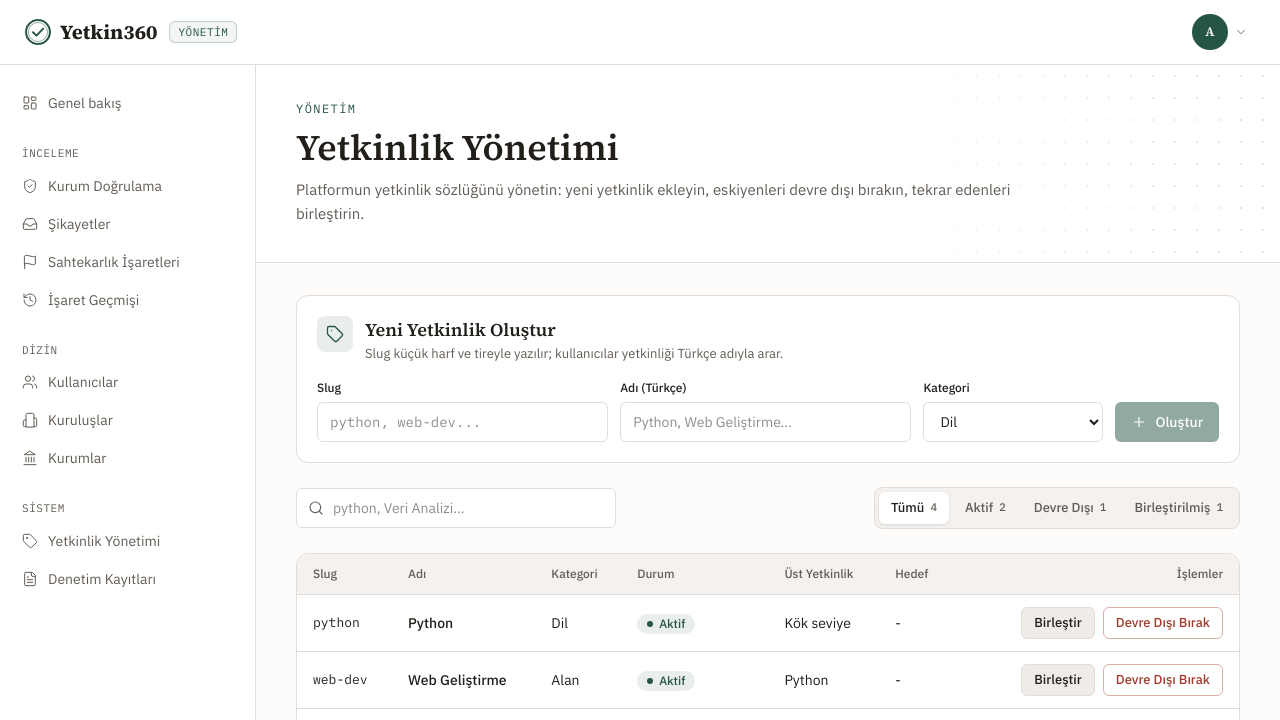
Test: SkillerPage (/admin/skiller) › AC-6: slug çakışması — 409 CONFLICT döner, form alanı altında satır-içi hata
Expected: the text "python" is shown, [297, 594, 392, 651]
Type "python" into the field labelled "Slug" at (463, 422), box [317, 402, 608, 442]
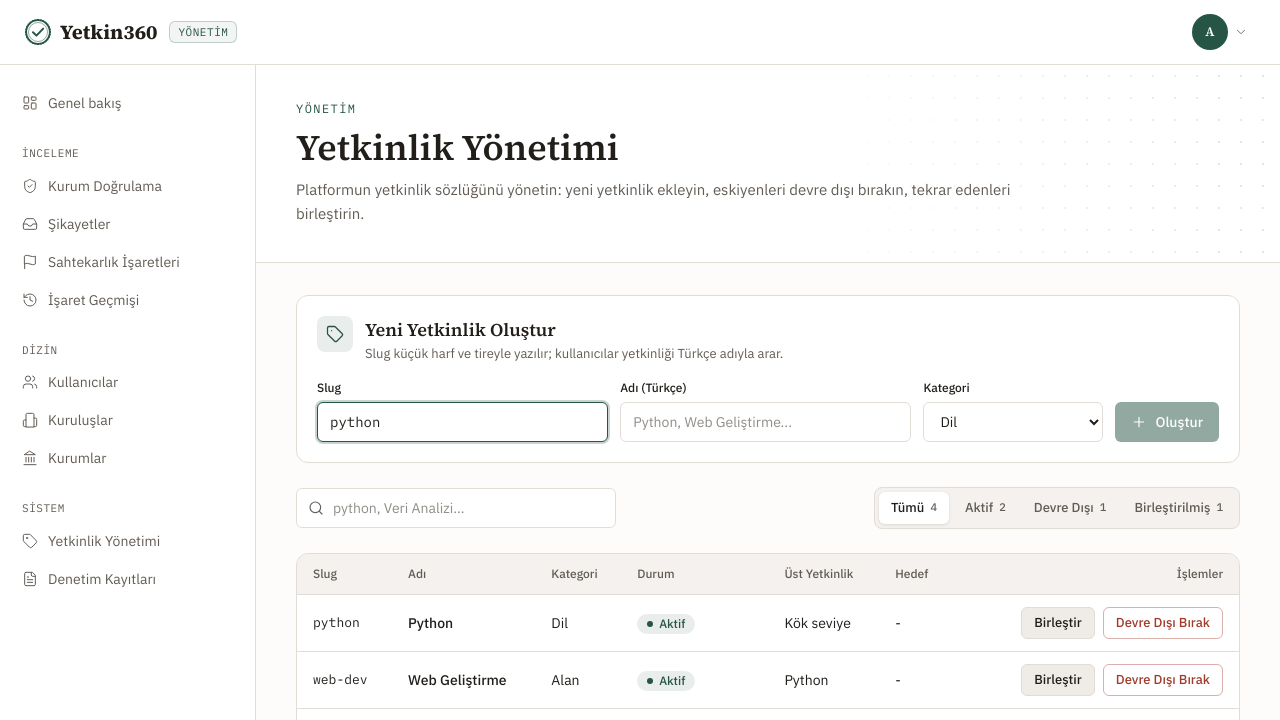
Type "Python Yeni" into the field labelled "Adı (Türkçe)" at (766, 422), box [620, 402, 911, 442]
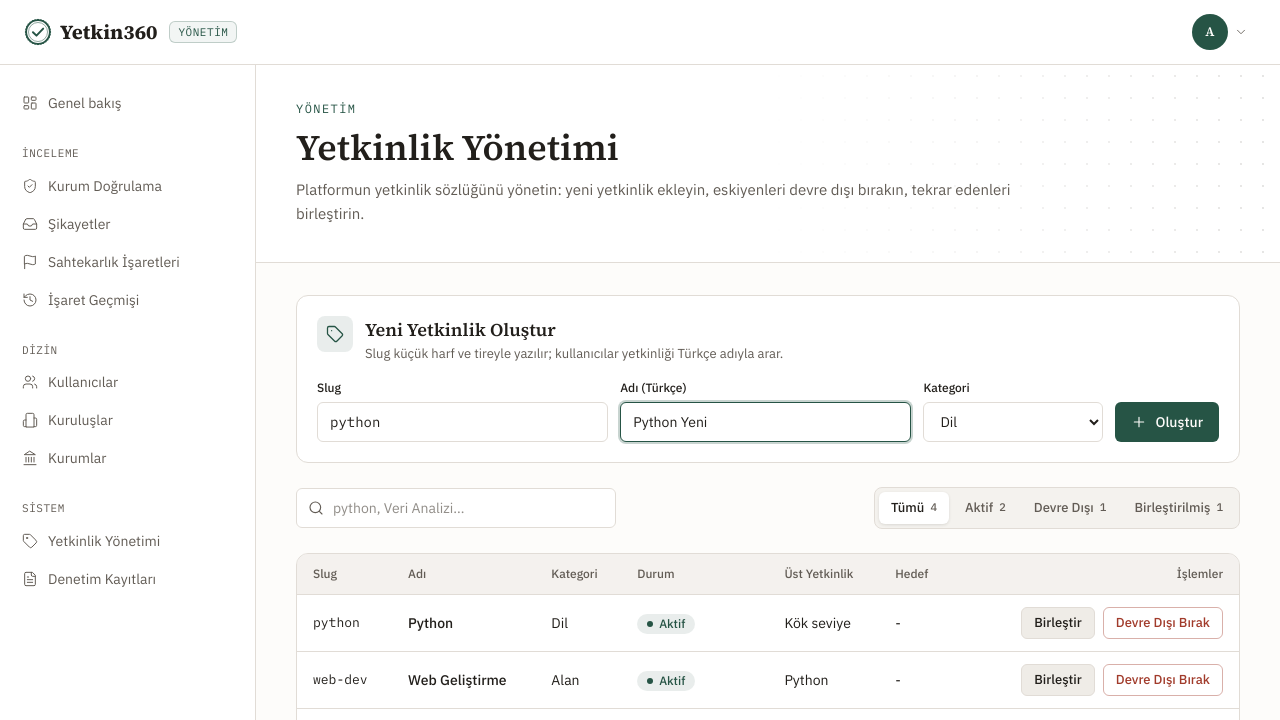
Click the button "Oluştur" at (1167, 422), box [1115, 402, 1219, 442]
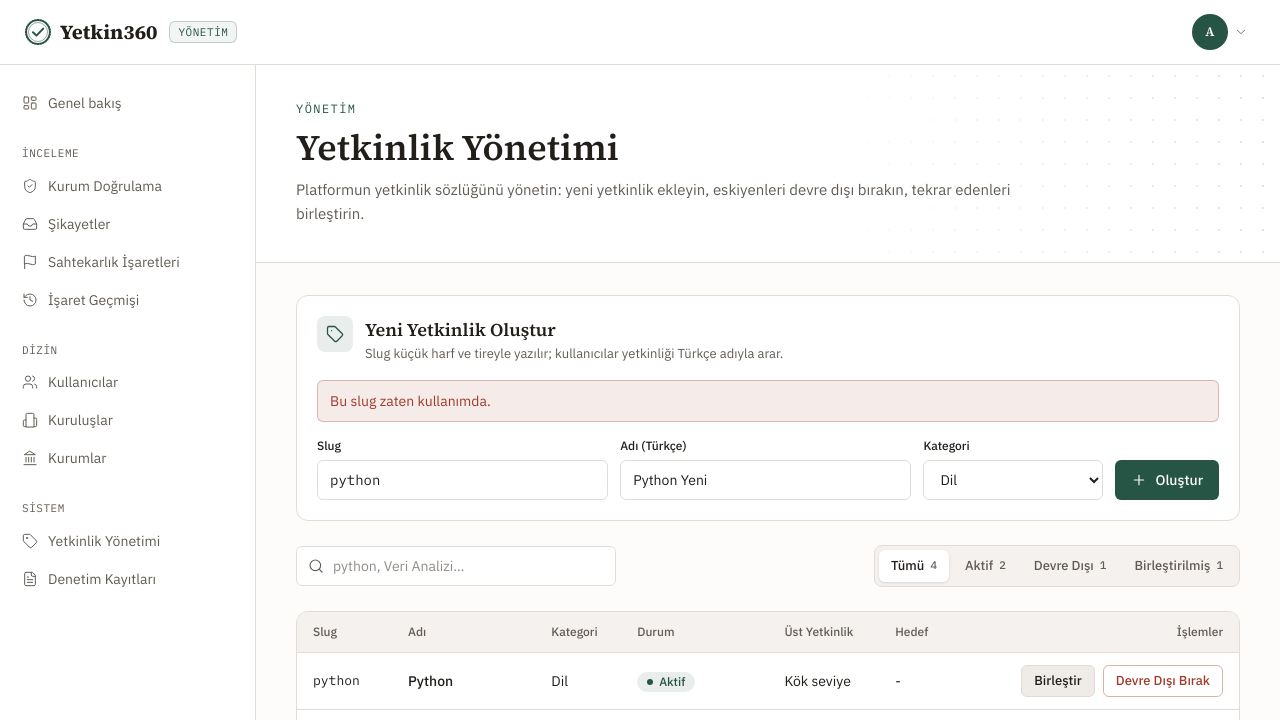
Expected: the text "python" is shown, [297, 652, 392, 709]
Expected: the text "Bu slug zaten kullanımda." is shown, [317, 380, 1219, 422]
